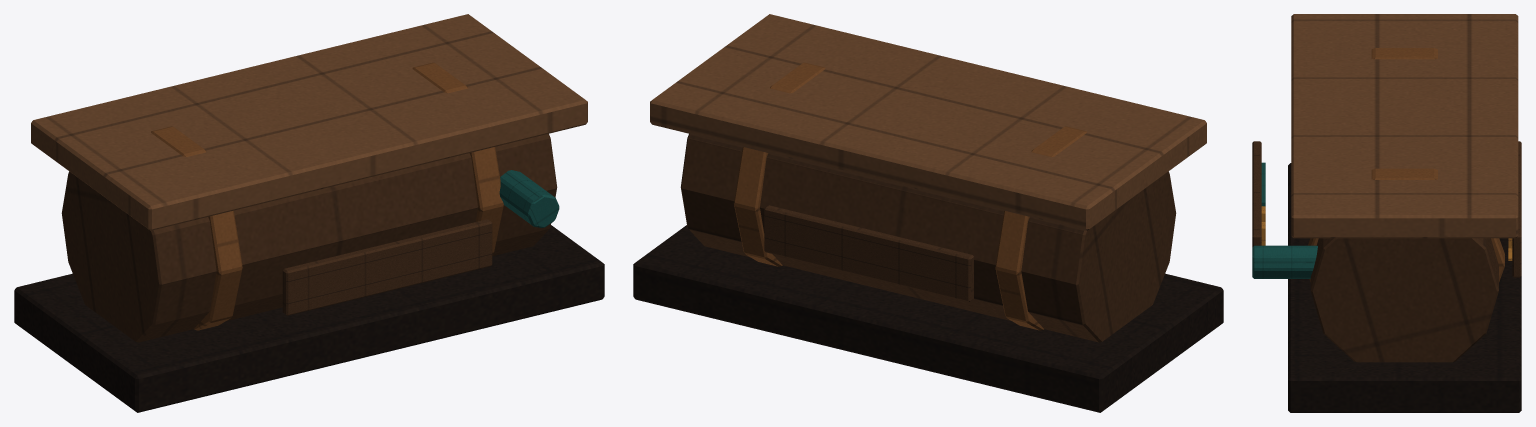
File: water_trough.e7.glb
3 views of the same model, side by side, from view 1: azimuth 30°, elevation 25°; view 2: azimuth 150°, elevation 25°; view 3: azimuth 270°, elevation 25° (orthographic). The views are drawn at different scales.
Parts seen in each view (by area): view 1: WaterTroughE7; view 2: WaterTroughE7; view 3: WaterTroughE7.
Part boxes in pixels (bbox=[...]): WaterTroughE7: bbox=[14, 14, 604, 412]; WaterTroughE7: bbox=[633, 14, 1223, 412]; WaterTroughE7: bbox=[1252, 14, 1521, 412].
Size of the model in its own units: 1.58 by 0.6548 by 0.83.
Materials: 1 (1 with a texture image).
